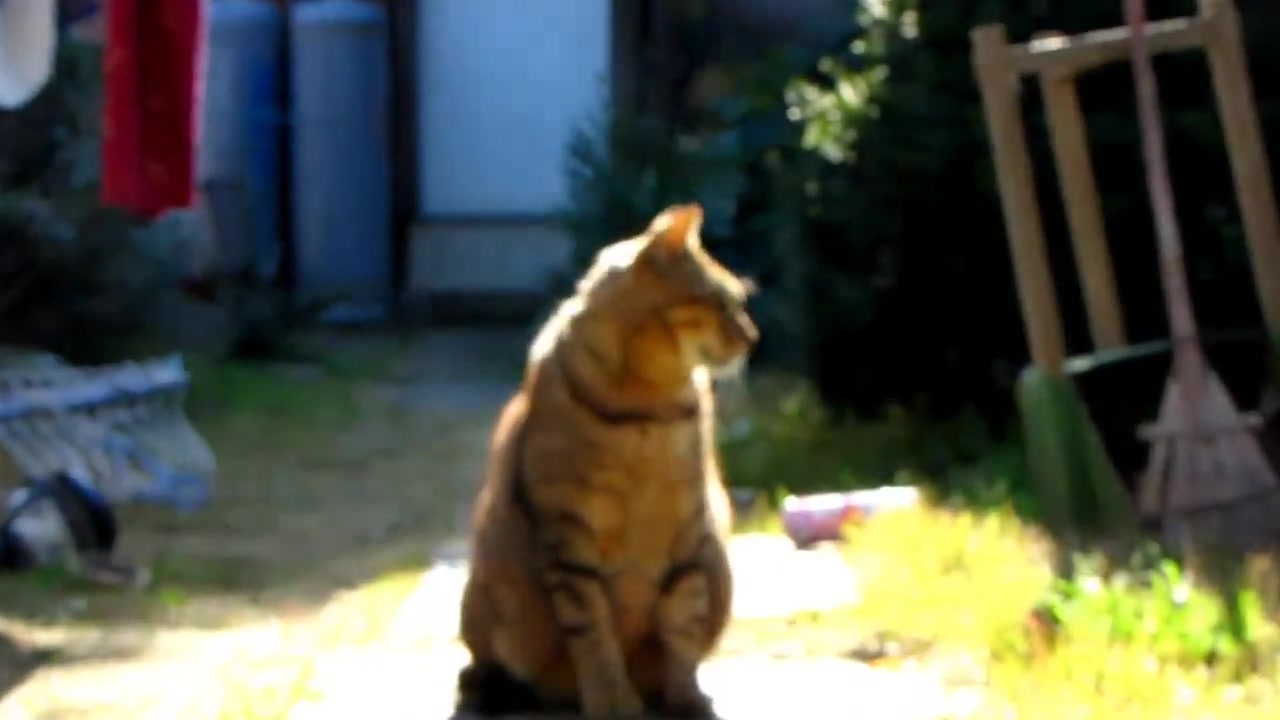cat: (460, 198, 758, 718)
